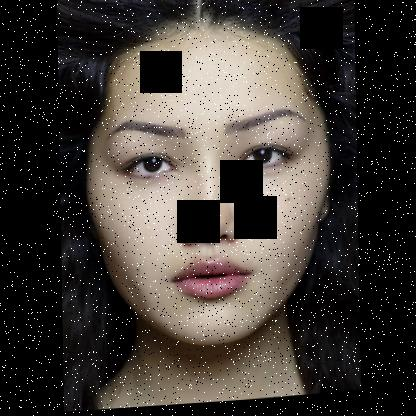Female: (82, 18, 334, 354)
